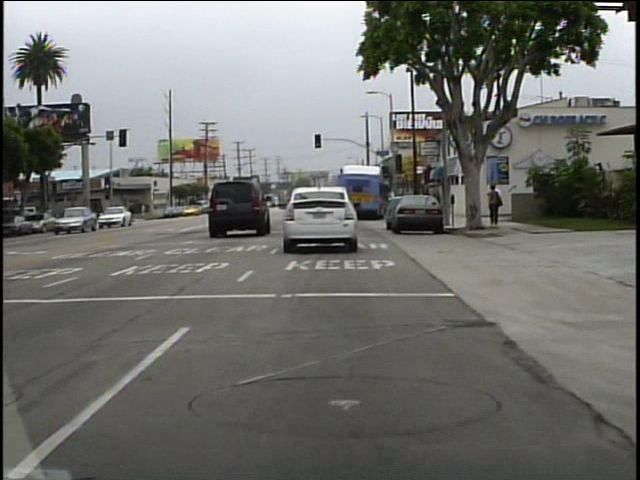person: (483, 181, 502, 228), (488, 182, 503, 225), (138, 199, 150, 220)
